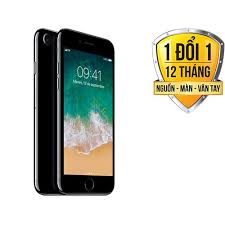iphone: (52, 25, 118, 195)
iphone7: (51, 25, 117, 195)
